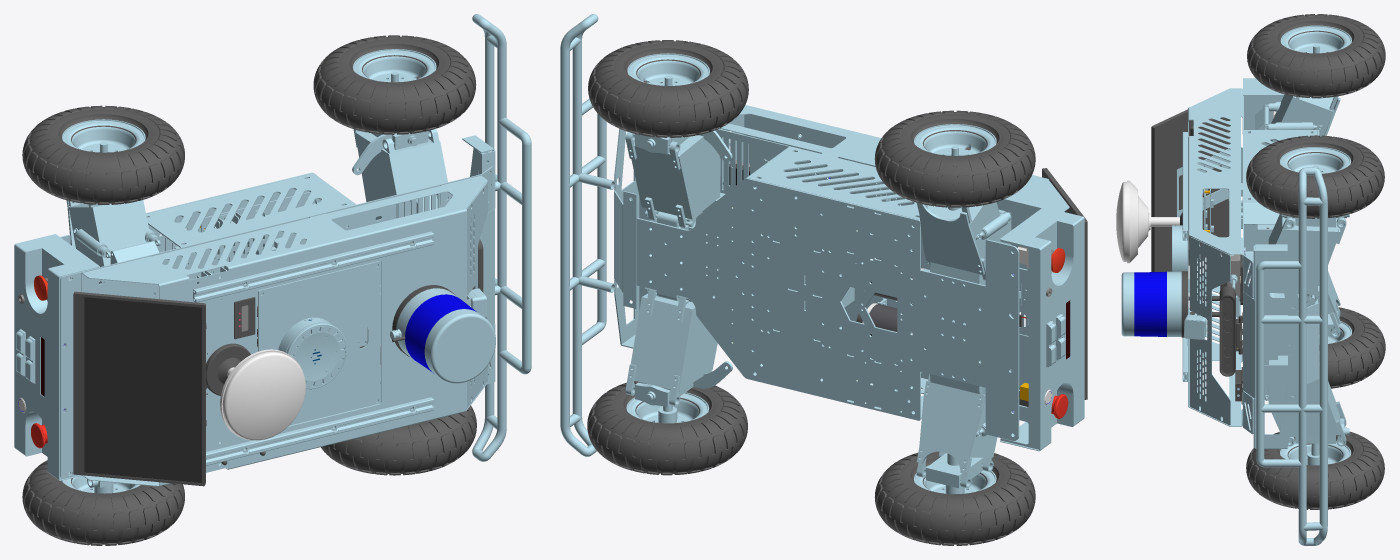
Rendered from ackermann-flagship.glb.
3 views of the same model, side by side, from view 1: azimuth 30°, elevation 25°; view 2: azimuth 150°, elevation 25°; view 3: azimuth 270°, elevation 25° (orthographic). The views are drawn at different scales.
Parts seen in each view (by area): view 1: part-0036, part-0021, part-0074, part-0069, part-0027, part-0063, part-0057, part-0067, part-0028, part-0040, part-0045, part-0076 (+12 smaller); view 2: part-0003, part-0075, part-0070, part-0074, part-0069, part-0057, part-0063, part-0072, part-0067, part-0036, part-0028, part-0076 (+3 smaller); view 3: part-0063, part-0069, part-0074, part-0036, part-0075, part-0072, part-0002, part-0021, part-0026, part-0045, part-0067, part-0070 (+11 smaller).
Boxes of the visible parts, box(x1,y1,x2,y2) form: part-0036: box(81, 175, 487, 486); part-0021: box(73, 291, 205, 486); part-0074: box(313, 35, 476, 134); part-0069: box(22, 105, 184, 204); part-0027: box(258, 261, 380, 425); part-0063: box(472, 14, 531, 461); part-0057: box(14, 234, 99, 480); part-0067: box(22, 460, 184, 545); part-0028: box(60, 166, 493, 478); part-0040: box(206, 343, 305, 440); part-0045: box(389, 288, 495, 383); part-0076: box(146, 173, 355, 247); part-0003: box(636, 178, 1019, 440); part-0075: box(625, 75, 732, 411); part-0070: box(855, 146, 1011, 488); part-0074: box(588, 40, 748, 137); part-0069: box(874, 110, 1035, 207); part-0057: box(1000, 207, 1084, 451); part-0063: box(560, 14, 615, 456); part-0072: box(587, 381, 747, 475); part-0067: box(874, 451, 1035, 545); part-0036: box(720, 105, 1069, 372); part-0028: box(715, 129, 1041, 387); part-0076: box(746, 146, 919, 219); part-0063: box(1256, 167, 1327, 545); part-0069: box(1247, 14, 1385, 98); part-0074: box(1246, 135, 1384, 218); part-0036: box(1188, 88, 1242, 426); part-0075: box(1264, 165, 1349, 455); part-0072: box(1246, 431, 1384, 509); part-0002: box(1243, 244, 1319, 448); part-0021: box(1151, 109, 1230, 271); part-0026: box(1189, 236, 1230, 425); part-0045: box(1121, 271, 1181, 336); part-0067: box(1319, 307, 1385, 388); part-0070: box(1255, 44, 1340, 337).
Bounding box in the file's own units: 0.8814 × 0.766 × 0.4953.
